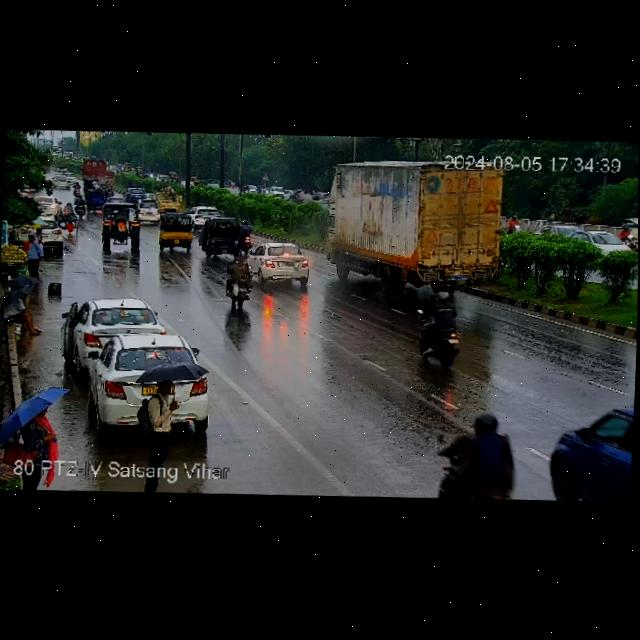car: (71, 331, 214, 438), (544, 409, 629, 503), (66, 296, 168, 358), (249, 241, 321, 284), (539, 221, 630, 255), (200, 215, 240, 254), (158, 212, 198, 249), (189, 204, 225, 226), (56, 200, 80, 232), (133, 199, 163, 223), (82, 182, 105, 209), (47, 219, 63, 256)
motorcycle: (441, 413, 524, 500), (408, 298, 468, 365), (218, 259, 256, 310), (620, 222, 638, 250), (241, 219, 252, 250), (76, 192, 85, 216)
person: (137, 376, 184, 458), (12, 404, 56, 461), (3, 286, 42, 334), (19, 231, 45, 278)
truck: (319, 153, 517, 297), (98, 203, 140, 258), (80, 158, 112, 191)
